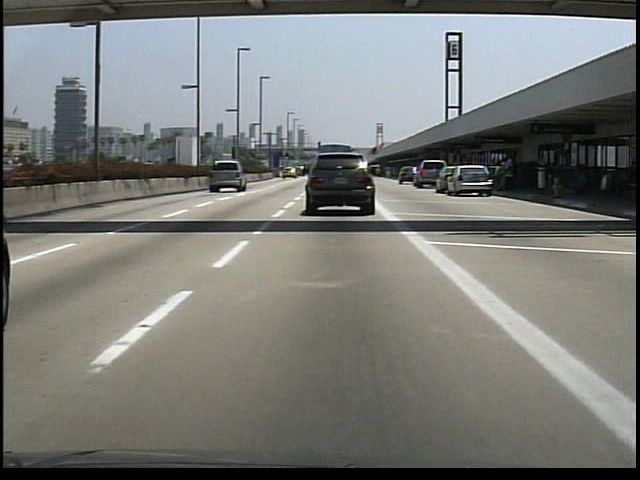person: (501, 152, 523, 193), (491, 158, 505, 192)
